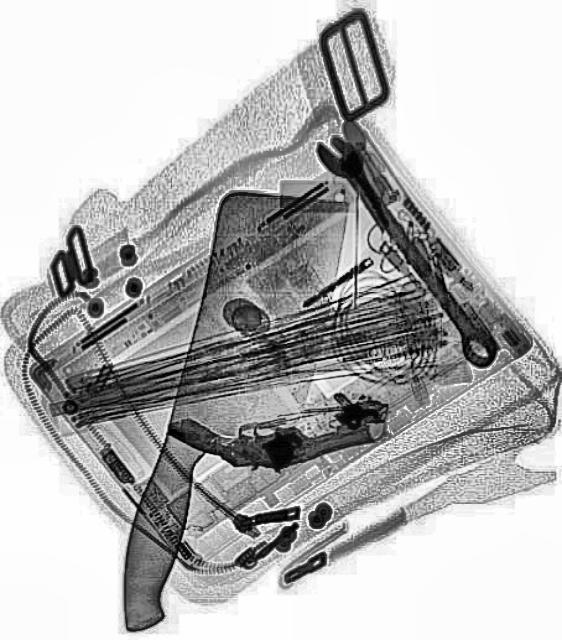Gun: (169, 373, 373, 492)
Knife: (126, 172, 346, 636)
Wrench: (311, 124, 503, 372)
